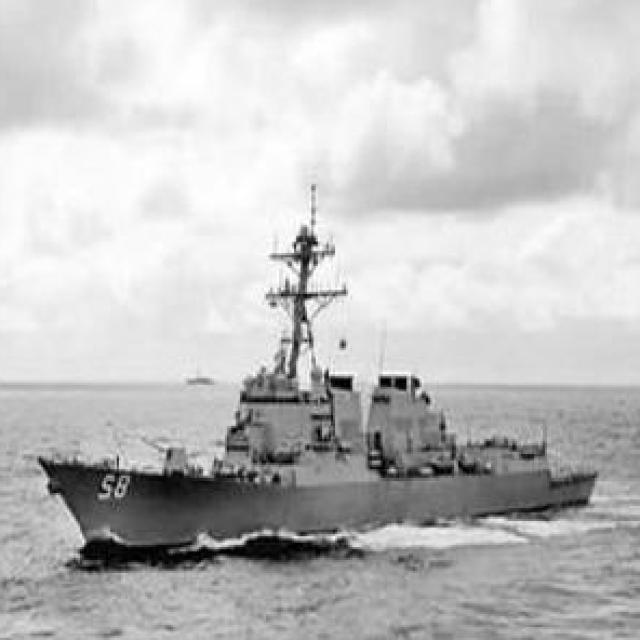navalvessels: (41, 180, 597, 552)
